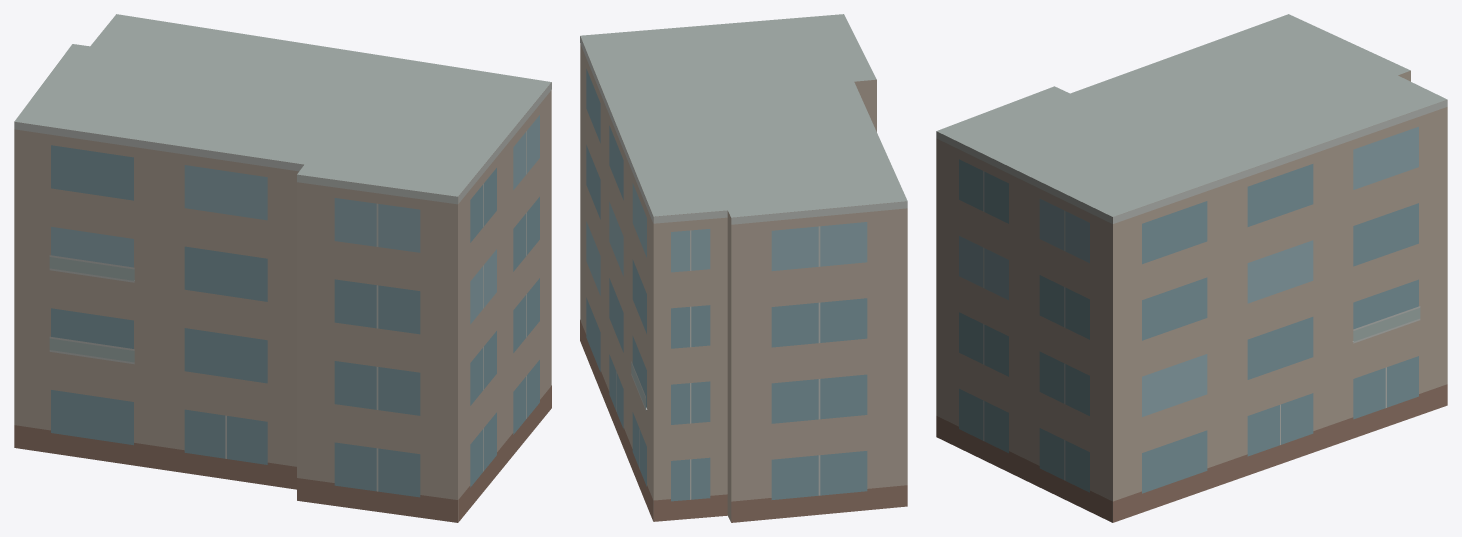
File: survey-upis-32569436.glb
The picture shows the model from 3 angles, left to right: view 1: azimuth 30°, elevation 25°; view 2: azimuth 150°, elevation 25°; view 3: azimuth 270°, elevation 25°; orthographic projection. The views are drawn at different scales.
Parts seen in each view (by area): view 1: survey-upis-32569436.tmp; view 2: survey-upis-32569436.tmp; view 3: survey-upis-32569436.tmp.
Part boxes in pixels (<box>): survey-upis-32569436.tmp: <box>14,14,551,522</box>; survey-upis-32569436.tmp: <box>580,14,907,522</box>; survey-upis-32569436.tmp: <box>936,14,1447,522</box>.
Size of the model in its own units: 14.82 by 10.4 by 15.77.
